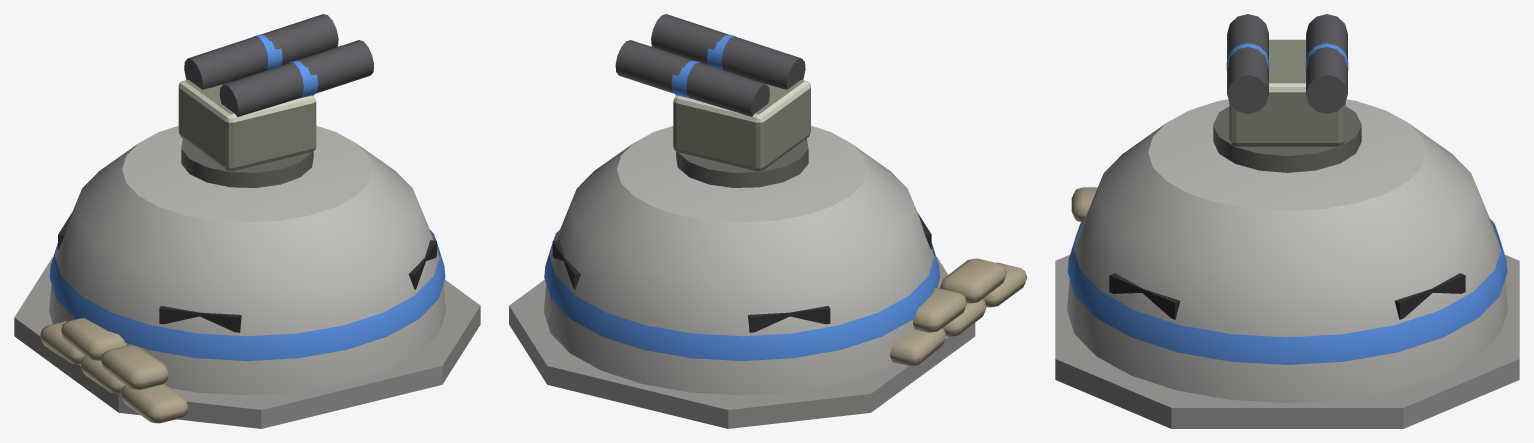
Rendered from rocket_bunker_blue.glb.
3 renders of one model, left to right at view 1: azimuth 30°, elevation 25°; view 2: azimuth 150°, elevation 25°; view 3: azimuth 270°, elevation 25°, orthographic. The views are drawn at different scales.
Visible parts, largest first — view 1: Body, Turret, Barrel; view 2: Body, Turret, Barrel; view 3: Body, Turret, Barrel.
Part boxes in pixels (x1,y1,x2,y2): Body: [14, 125, 480, 428]; Turret: [178, 80, 316, 187]; Barrel: [184, 14, 373, 116]; Body: [509, 125, 1026, 428]; Turret: [673, 80, 810, 187]; Barrel: [615, 14, 805, 116]; Body: [1055, 99, 1519, 428]; Turret: [1213, 39, 1361, 172]; Barrel: [1226, 14, 1348, 113].
Size of the model in its own units: 2.07 by 1.47 by 2.
1 material, 1 textured.
